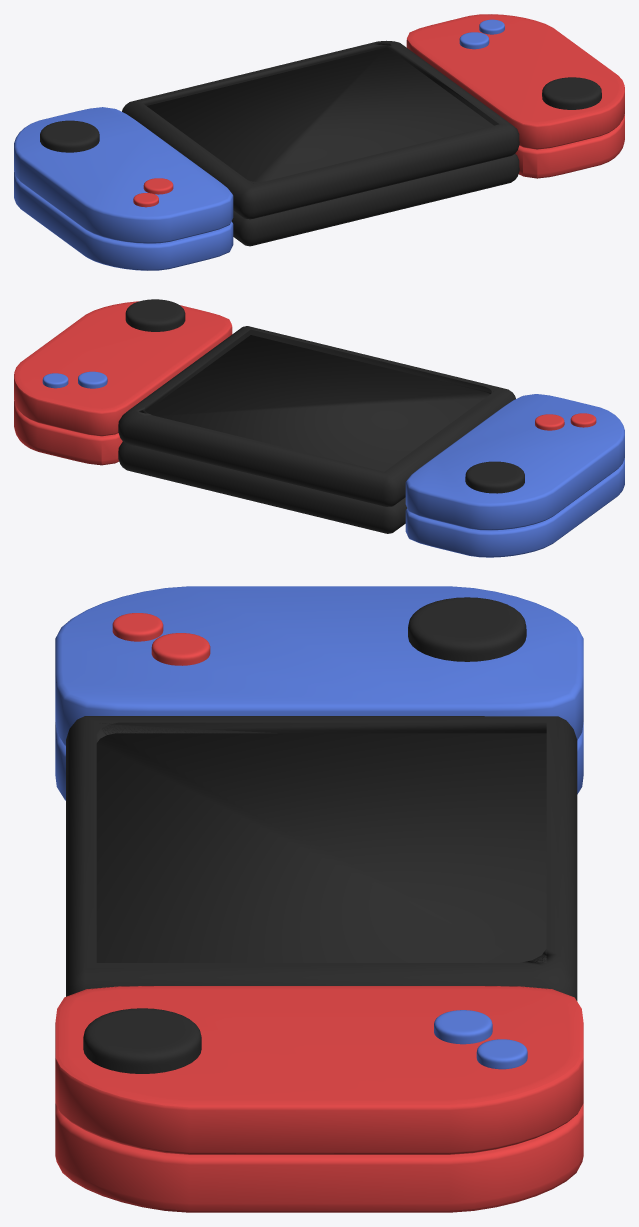
File: console.fbx
3 views of the same model, one above another, from view 1: azimuth 30°, elevation 25°; view 2: azimuth 150°, elevation 25°; view 3: azimuth 270°, elevation 25° (orthographic). The views are drawn at different scales.
Visible parts, largest first — view 1: Cube.006; view 2: Cube.006; view 3: Cube.006.
Boxes of the visible parts, x1,y1,x2,y2 form: Cube.006: (14,14,624,270); Cube.006: (14,299,624,557); Cube.006: (55,586,583,1212).
Bounding box in the file's own units: 186 × 21.88 × 80.01.
